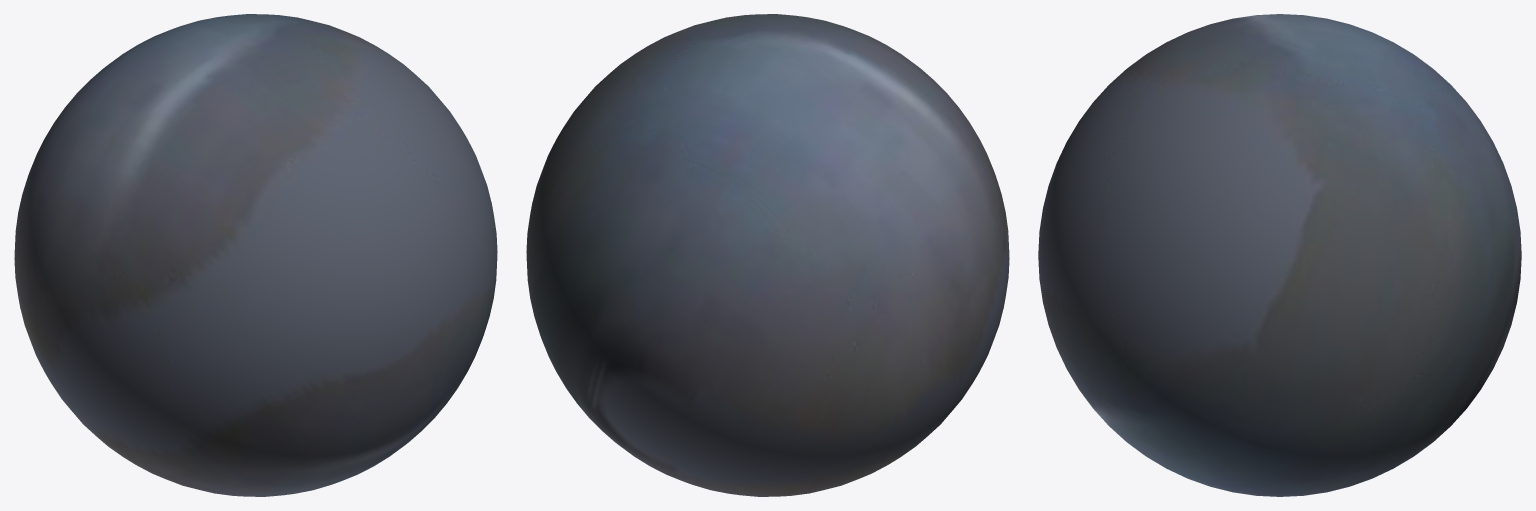
The model's file is ball-train-textures.glb.
3 views of the same model, side by side, from view 1: azimuth 30°, elevation 25°; view 2: azimuth 150°, elevation 25°; view 3: azimuth 270°, elevation 25° (orthographic).
Parts seen in each view (by area): view 1: gray_ball; view 2: gray_ball; view 3: gray_ball.
Part boxes in pixels (x1,y1,x2,y2): gray_ball: (14,14,497,496); gray_ball: (526,14,1009,496); gray_ball: (1038,14,1521,496).
Bounding box in the file's own units: 0.0704 × 0.0704 × 0.0704.
3 materials, 3 textured.
